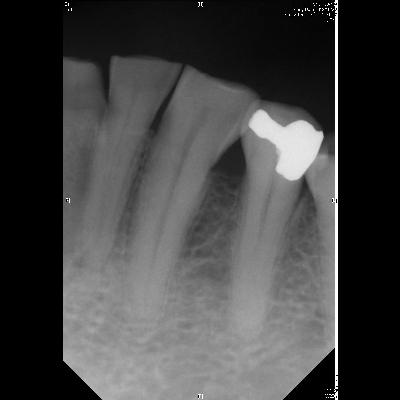tooth: (123, 66, 256, 328), (74, 53, 183, 275)
